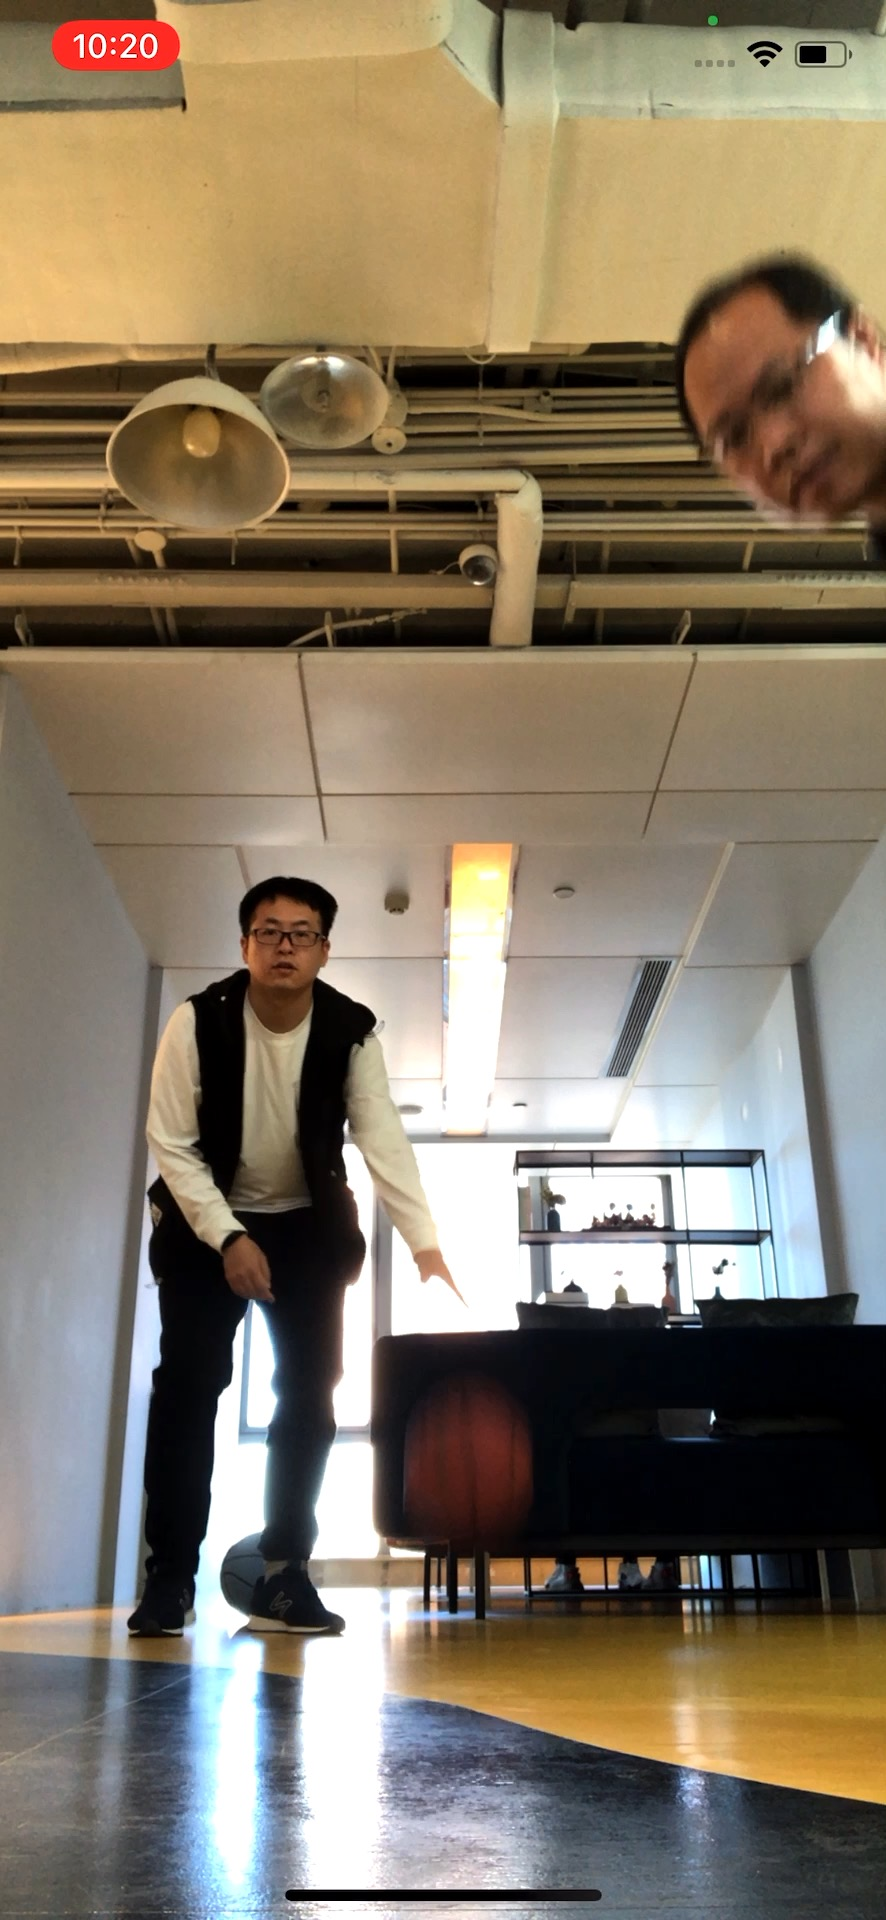ball: (404, 1398, 529, 1524)
